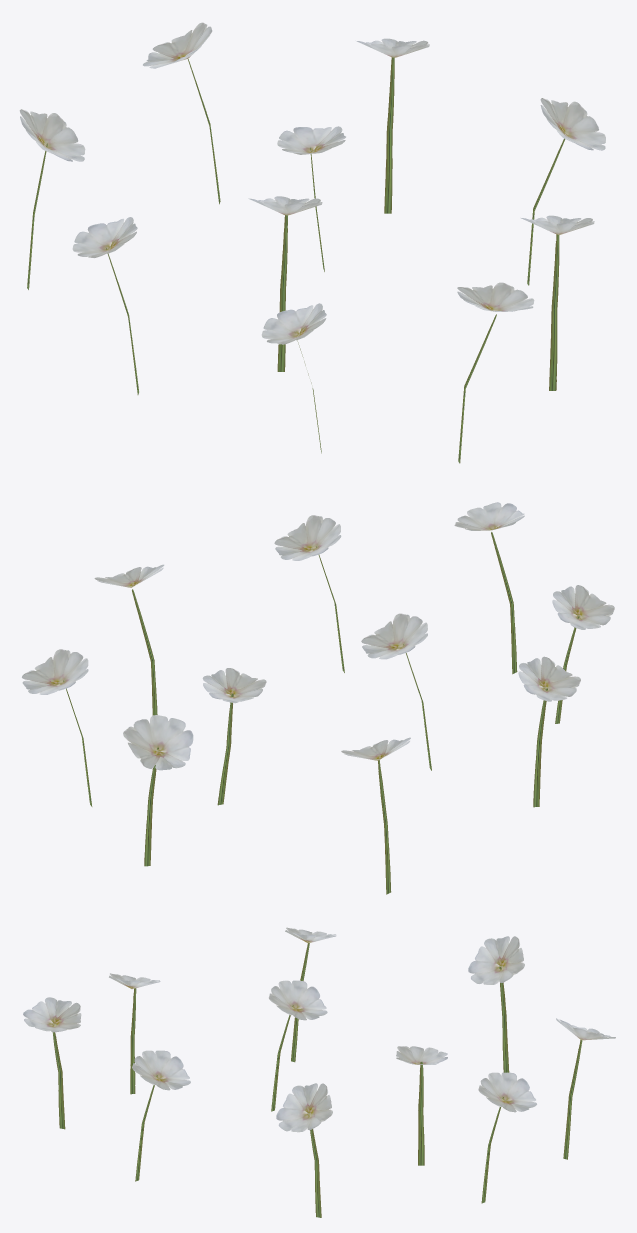
The model's file is SM_Ground_White2_Flower_D.fbx.
3 renders of one model, top to bottom at view 1: azimuth 30°, elevation 25°; view 2: azimuth 150°, elevation 25°; view 3: azimuth 270°, elevation 25°, orthographic. The views are drawn at different scales.
Visible parts, largest first — view 1: SM_Ground_White2_Flower_D_LOD0; view 2: SM_Ground_White2_Flower_D_LOD0; view 3: SM_Ground_White2_Flower_D_LOD0.
Boxes of the visible parts, x1,y1,x2,y2 form: SM_Ground_White2_Flower_D_LOD0: (19,22,605,463); SM_Ground_White2_Flower_D_LOD0: (22,502,614,894); SM_Ground_White2_Flower_D_LOD0: (23,927,615,1217).
Size of the model in its own units: 78.96 by 96.71 by 25.38.
1 material, 1 textured.
